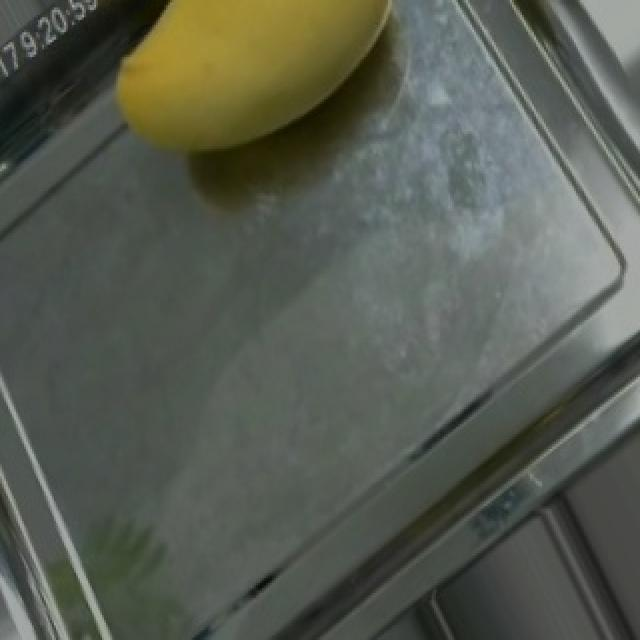fruit: (80, 0, 436, 218)
